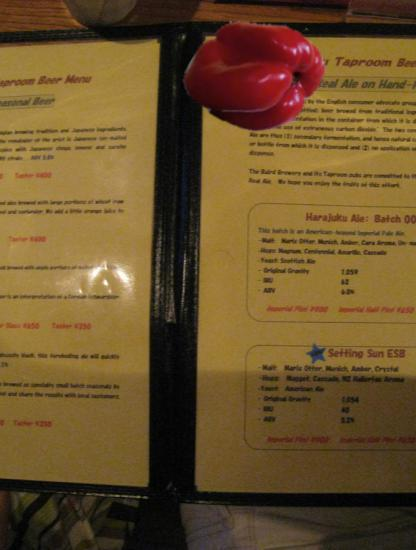Pepper: (192, 10, 319, 137)
